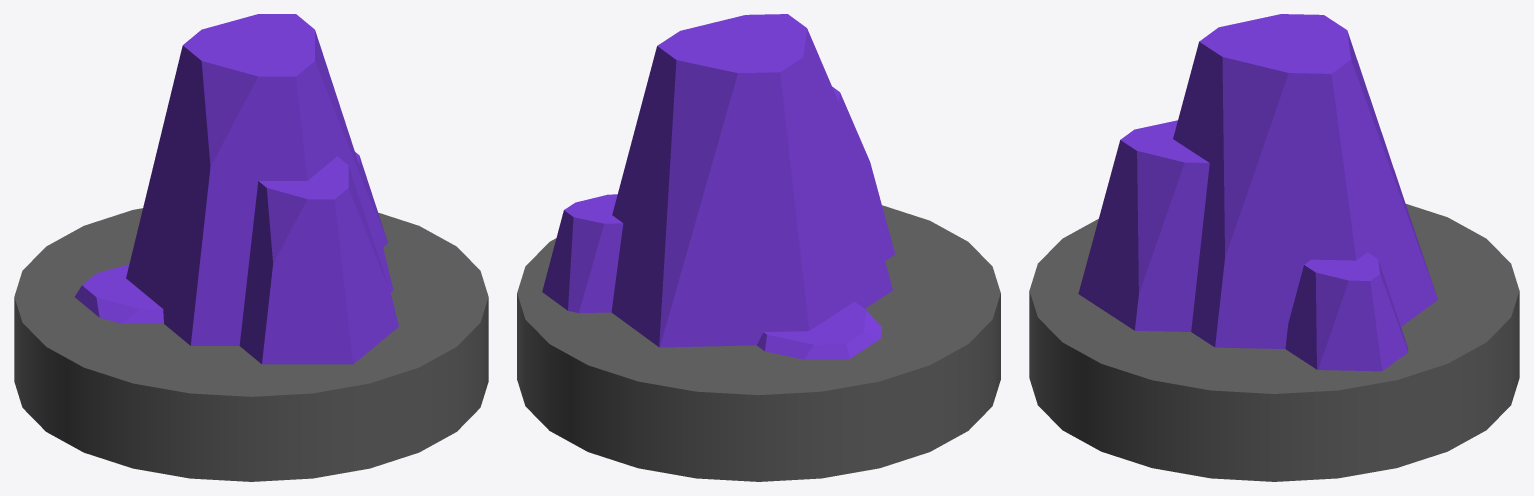
Rendered from gems_amethyst_3.obj.
3 renders of one model, left to right at view 1: azimuth 30°, elevation 25°; view 2: azimuth 150°, elevation 25°; view 3: azimuth 270°, elevation 25°, orthographic. The views are drawn at different scales.
Visible parts, largest first — view 1: mergedBlocks; view 2: mergedBlocks; view 3: mergedBlocks.
Boxes of the visible parts, <box> form: mergedBlocks: <box>14,14,488,481</box>; mergedBlocks: <box>517,14,1000,481</box>; mergedBlocks: <box>1029,14,1519,481</box>.
Bounding box in the file's own units: 1 × 0.7676 × 1.
